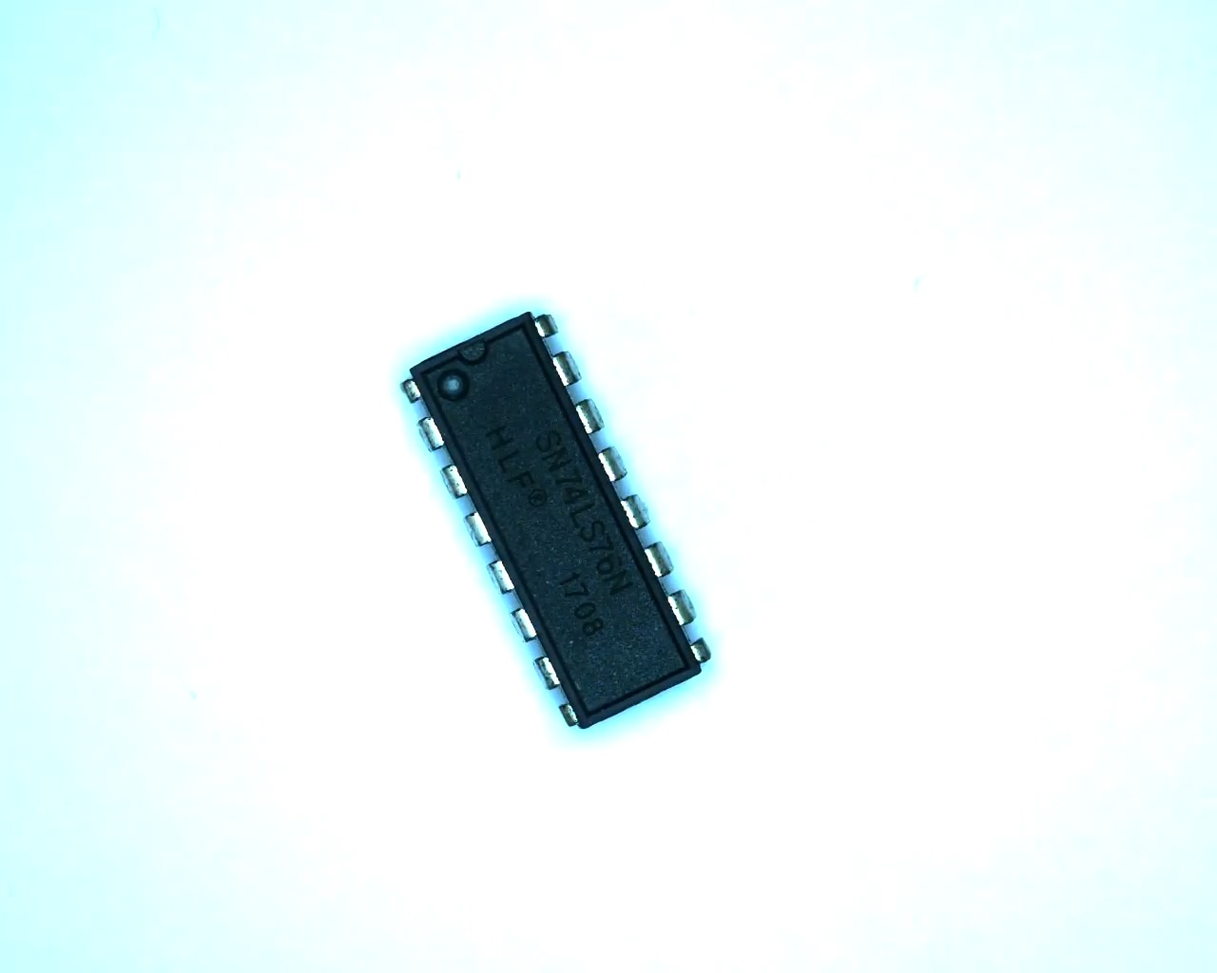IC: (390, 297, 720, 744)
notch: (452, 333, 496, 371)
